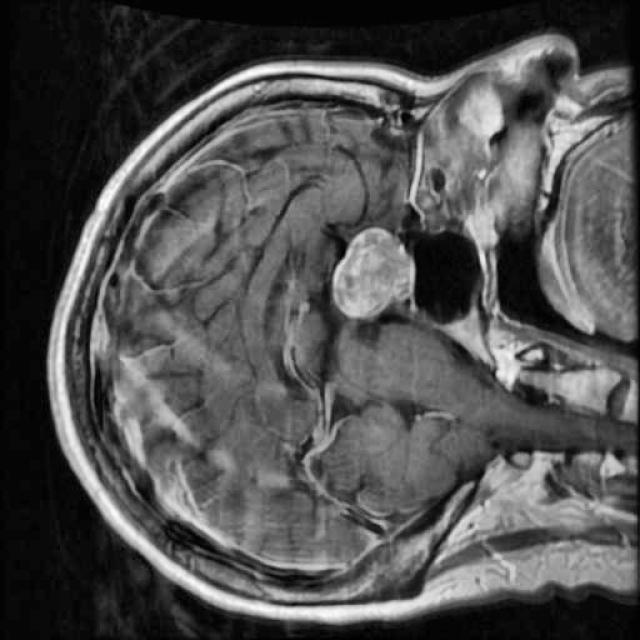Tumor: (324, 218, 422, 332)
